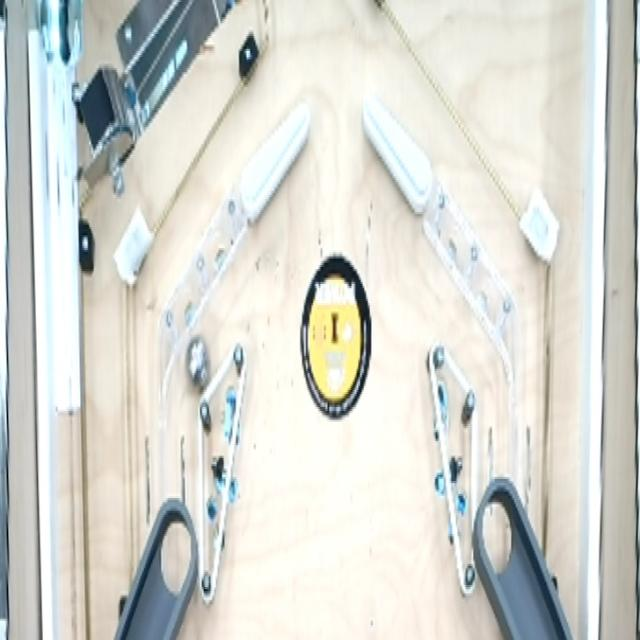ball: (184, 330, 212, 398)
flipper-left: (362, 88, 435, 220)
flipper-right: (237, 94, 312, 224)
